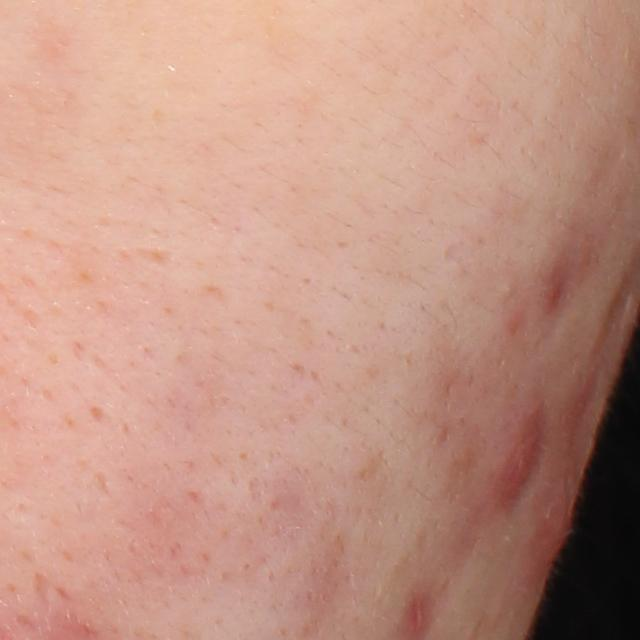comedo: (499, 279, 517, 299)
papule: (485, 394, 549, 512), (537, 488, 582, 561), (400, 593, 431, 638)
